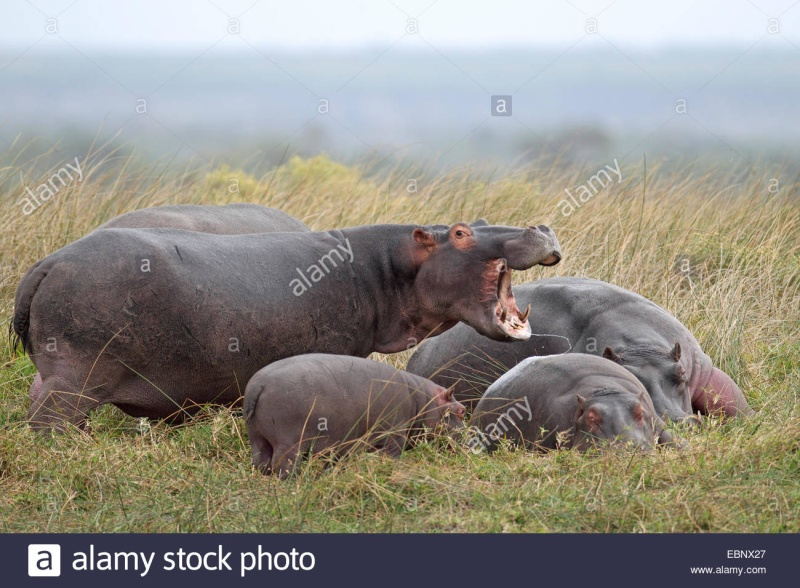hipopotamo: (14, 221, 562, 416), (471, 273, 762, 424), (248, 353, 469, 476), (480, 355, 665, 454)
